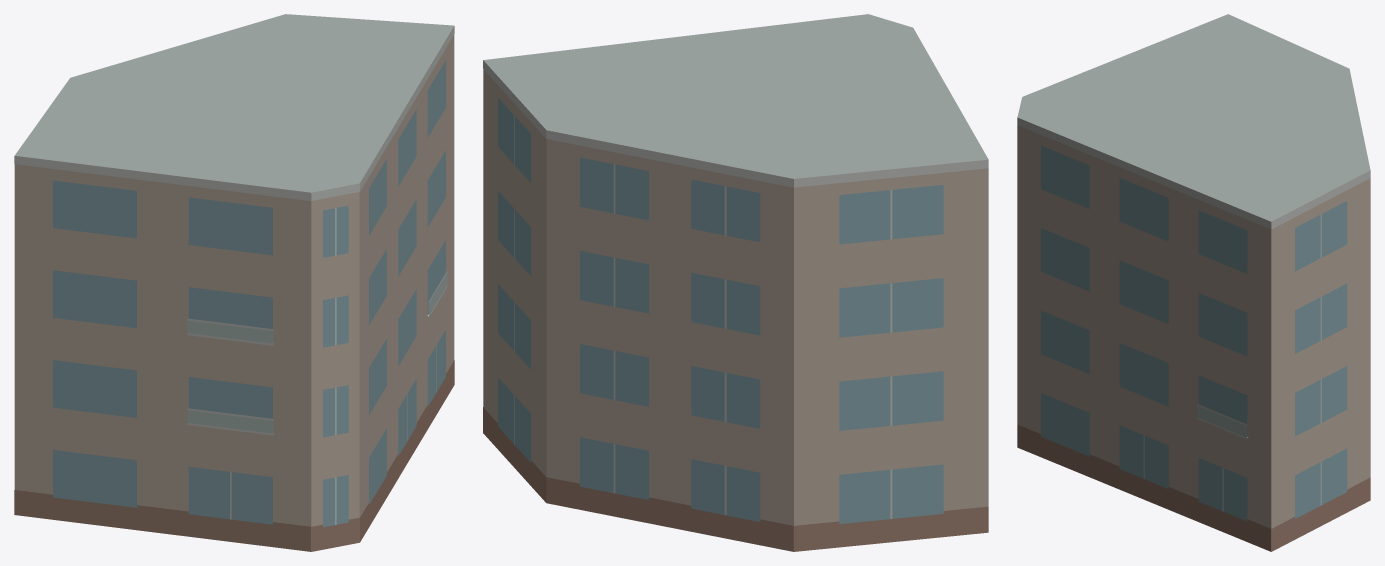
File: survey-upis-32891070.glb
3 renders of one model, left to right at view 1: azimuth 30°, elevation 25°; view 2: azimuth 150°, elevation 25°; view 3: azimuth 270°, elevation 25°, orthographic. The views are drawn at different scales.
Visible parts, largest first — view 1: survey-upis-32891070.tmp; view 2: survey-upis-32891070.tmp; view 3: survey-upis-32891070.tmp.
Boxes of the visible parts, left/top/right/bottom form: survey-upis-32891070.tmp: left=14, top=14, right=454, bottom=551; survey-upis-32891070.tmp: left=483, top=14, right=988, bottom=551; survey-upis-32891070.tmp: left=1017, top=14, right=1370, bottom=551.
Bounding box in the file's own units: 14.19 × 10.5 × 10.19.
